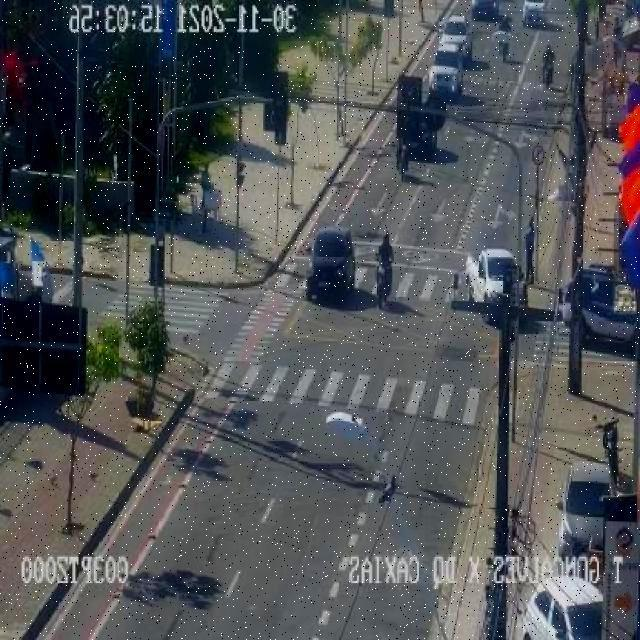Car: (308, 223, 361, 297), (428, 42, 472, 106)
Cycle: (539, 39, 564, 99), (375, 230, 395, 304)
